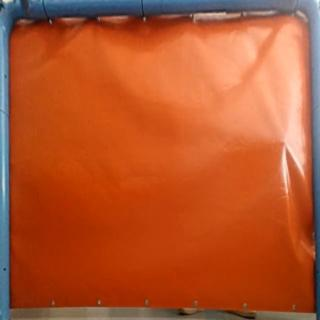Hit-hRxx: (276, 136, 294, 149)
